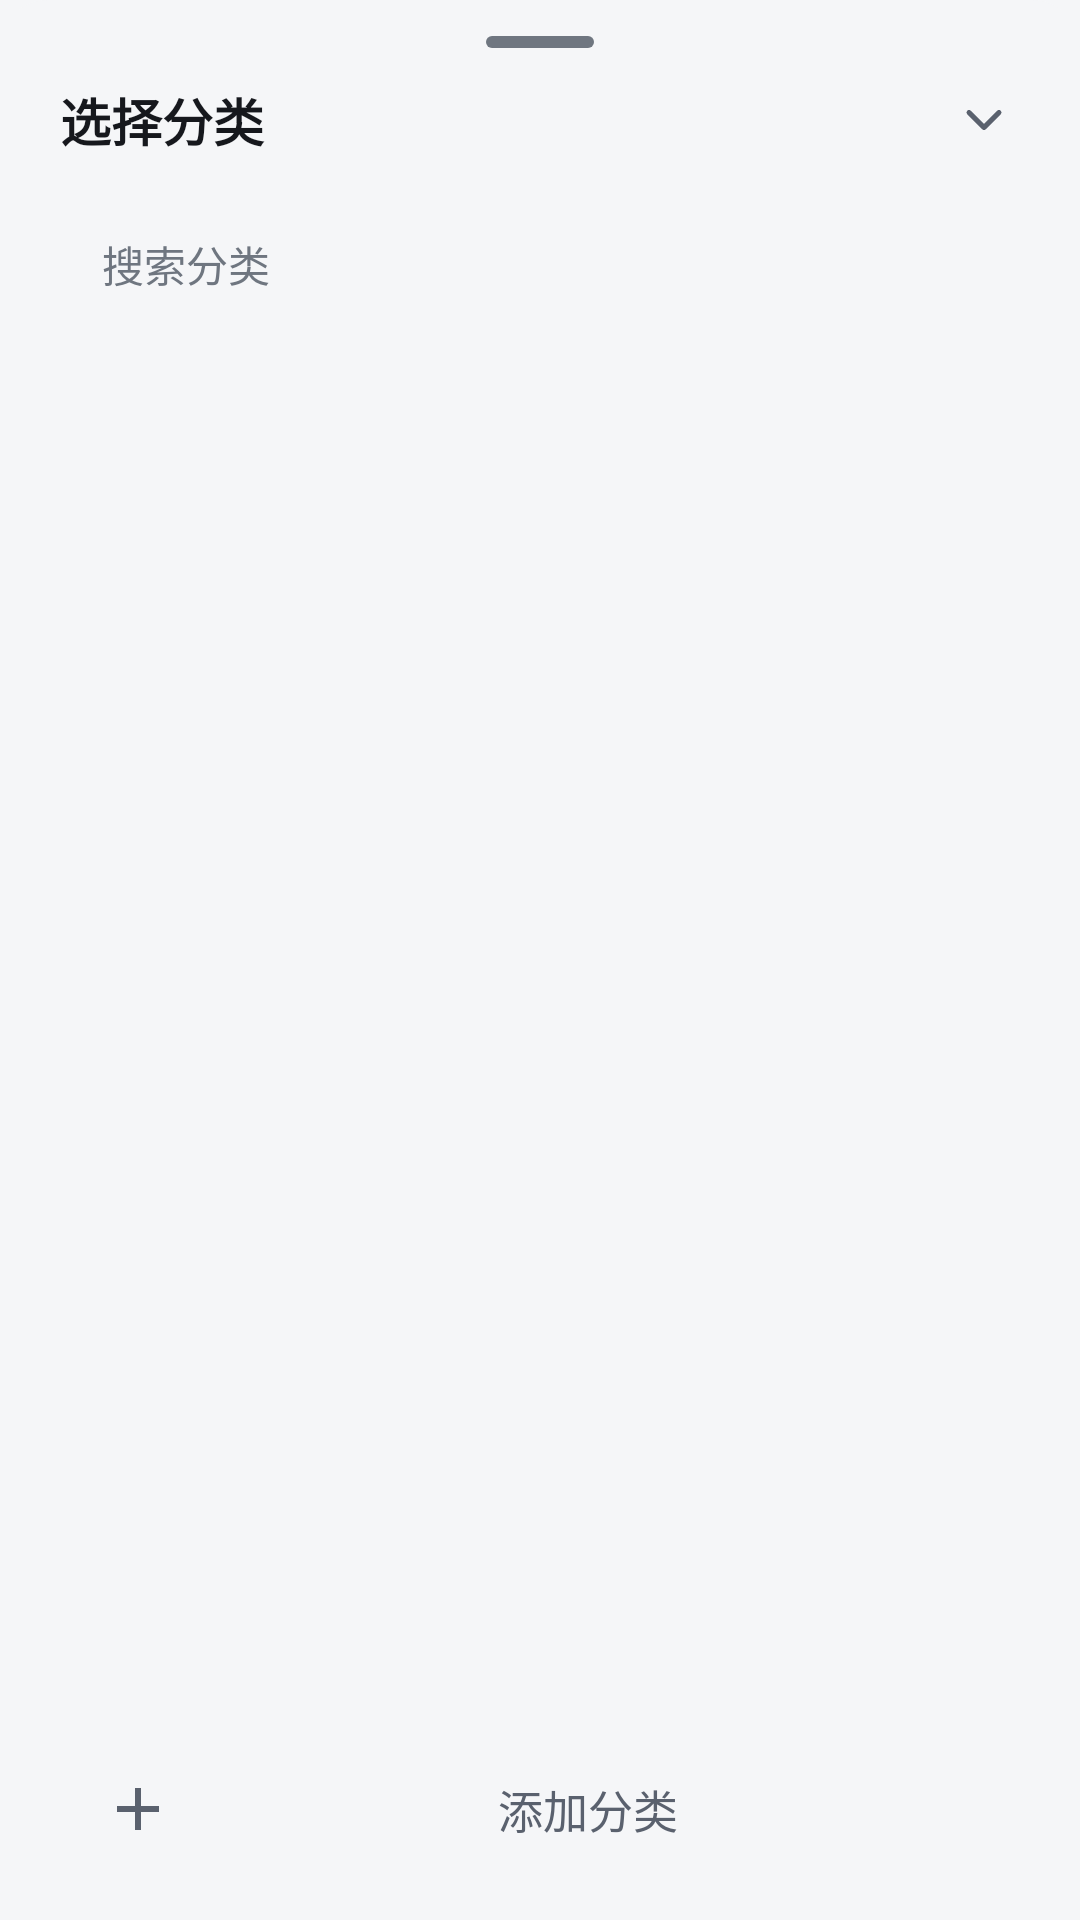

Locate icon controls on the screen. Image size 1080x1920, boxes as (x1, y1, x2, y2).
关闭: (966, 110, 1002, 130)
